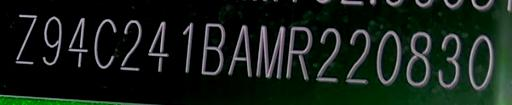letter: (466, 30, 500, 93), (404, 27, 434, 90), (434, 28, 464, 91), (343, 26, 373, 87), (255, 23, 285, 80), (90, 12, 118, 71), (313, 24, 341, 83), (375, 30, 403, 89), (226, 23, 254, 80), (198, 20, 226, 75), (146, 17, 172, 74), (286, 25, 312, 82), (118, 15, 144, 70), (12, 8, 36, 67), (66, 11, 90, 70), (40, 11, 64, 68), (176, 19, 198, 80)
